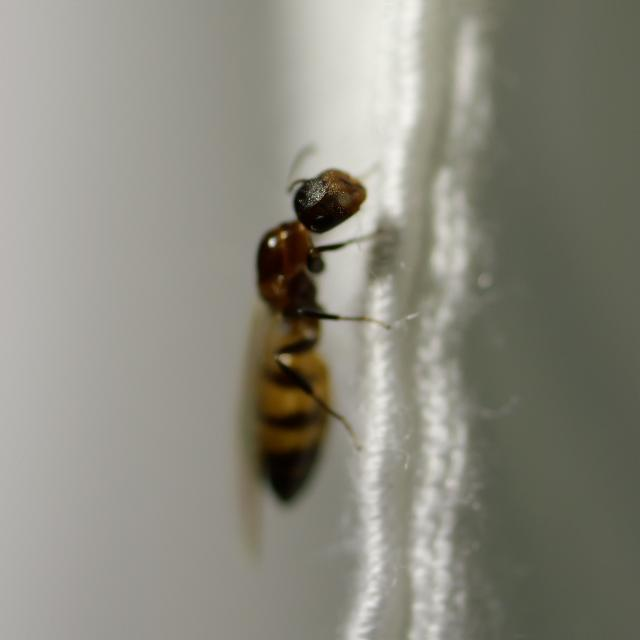Colobopsis: (210, 140, 386, 532)
